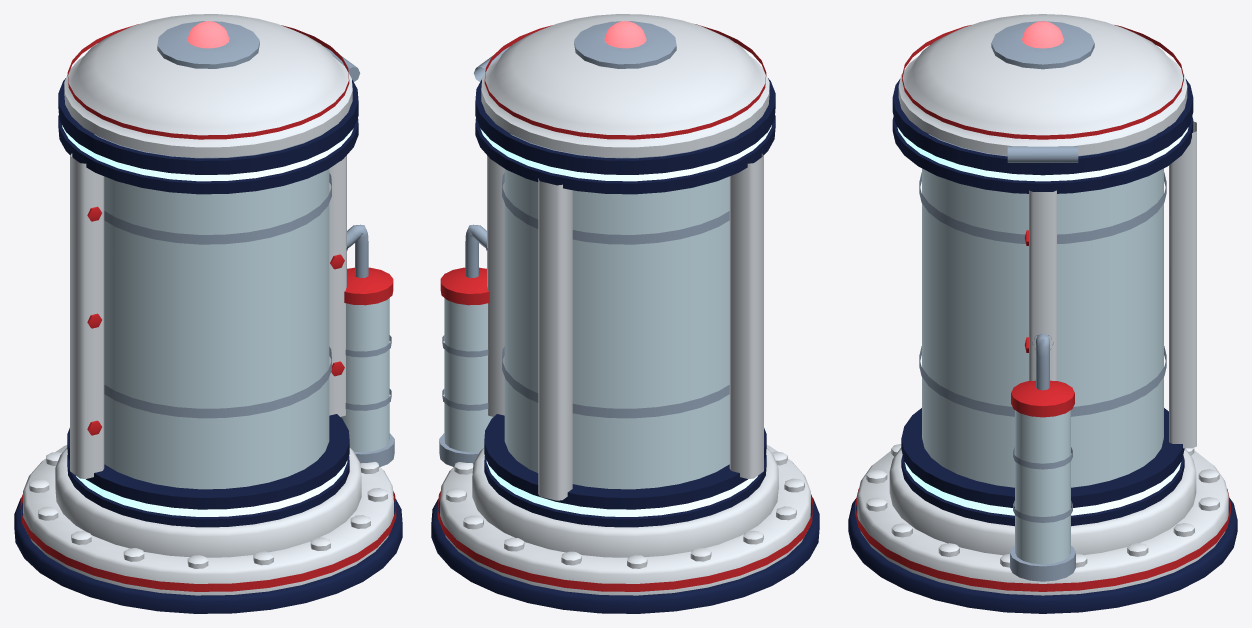
File: CloneTube_LowPoly.fbx
3 renders of one model, left to right at view 1: azimuth 30°, elevation 25°; view 2: azimuth 150°, elevation 25°; view 3: azimuth 270°, elevation 25°, orthographic.
Visible parts, largest first — view 1: TubeGlass, Cork, Deck, Floor, RailLeft, TopCollar, LowerCollar, DeckBase, TankGlass, RailRight, DeckStripe, CorkTop (+11 smaller); view 2: TubeGlass, Cork, Deck, RailBack, RailLeft, Floor, TopCollar, LowerCollar, DeckBase, TankGlass, RailRight, DeckStripe (+11 smaller); view 3: TubeGlass, Cork, Deck, TopCollar, LowerCollar, Floor, DeckBase, RailBack, TankGlass, RailRight, DeckStripe, CorkTop (+11 smaller).
Boxes of the visible parts, <box> form: TubeGlass: <box>94,134,329,489</box>; Cork: <box>64,14,352,157</box>; Deck: <box>23,445,393,595</box>; Floor: <box>55,448,361,557</box>; RailLeft: <box>70,153,104,478</box>; TopCollar: <box>58,78,358,194</box>; LowerCollar: <box>67,414,349,527</box>; DeckBase: <box>14,498,402,613</box>; TankGlass: <box>340,298,389,452</box>; RailRight: <box>329,155,346,416</box>; DeckStripe: <box>20,491,396,591</box>; CorkTop: <box>157,21,259,68</box>; TubeGlass: <box>504,134,739,489</box>; Cork: <box>481,14,769,157</box>; Deck: <box>440,445,810,595</box>; RailBack: <box>538,178,572,500</box>; RailLeft: <box>729,153,763,478</box>; Floor: <box>472,448,778,557</box>; TopCollar: <box>475,78,775,194</box>; LowerCollar: <box>484,414,766,527</box>; DeckBase: <box>431,498,819,613</box>; TankGlass: <box>444,298,493,452</box>; RailRight: <box>487,155,504,416</box>; DeckStripe: <box>437,491,813,591</box>; TubeGlass: <box>922,134,1163,487</box>; Cork: <box>898,14,1187,155</box>; Deck: <box>857,450,1228,595</box>; TopCollar: <box>892,79,1193,193</box>; LowerCollar: <box>901,408,1184,526</box>; Floor: <box>889,447,1196,555</box>; DeckBase: <box>848,498,1237,613</box>; RailBack: <box>1169,121,1196,448</box>; TankGlass: <box>1015,410,1070,564</box>; RailRight: <box>1029,190,1056,380</box>; DeckStripe: <box>855,489,1230,591</box>; CorkTop: <box>991,21,1094,69</box>.
Size of the model in its own units: 13.72 by 19.02 by 13.2.
